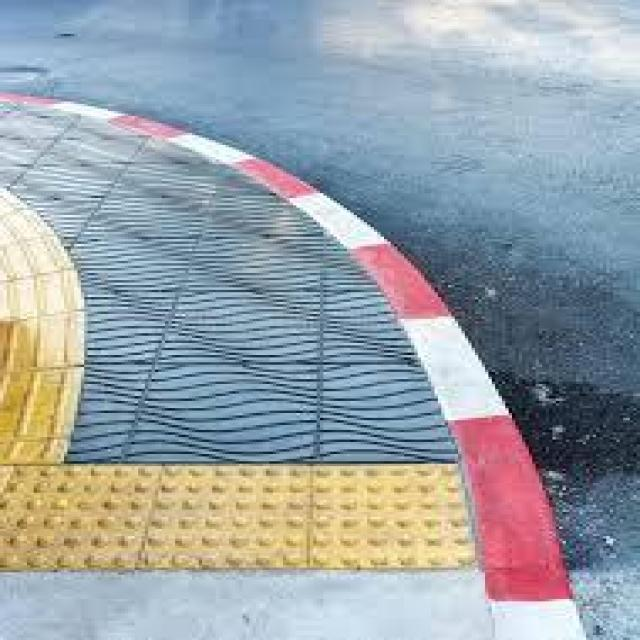curb: (291, 185, 585, 636), (5, 89, 325, 196)
